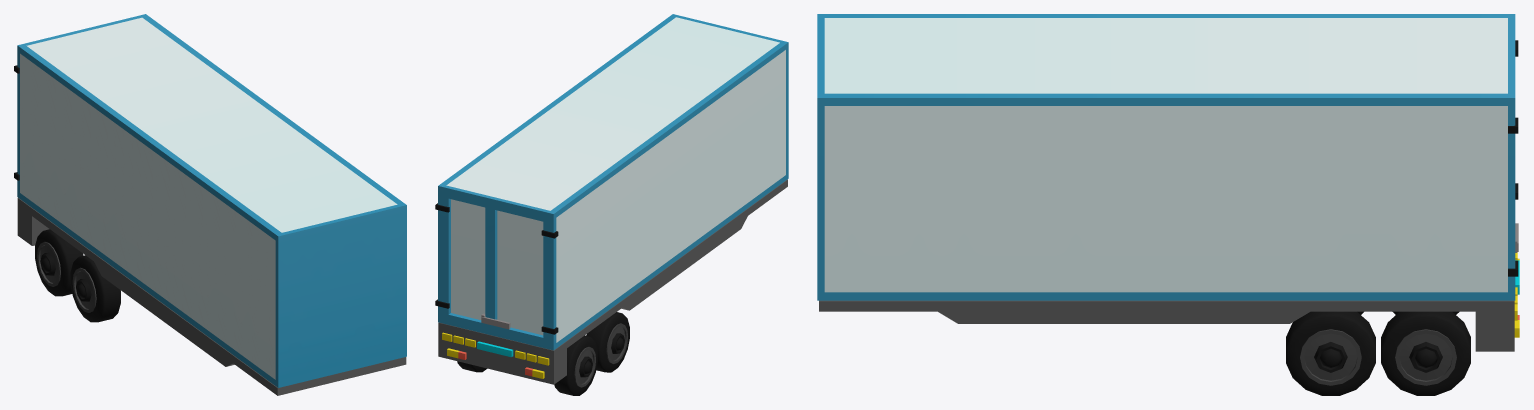
The model's file is Trailer_1_lvl2.fbx.
3 views of the same model, side by side, from view 1: azimuth 30°, elevation 25°; view 2: azimuth 150°, elevation 25°; view 3: azimuth 270°, elevation 25° (orthographic). The views are drawn at different scales.
Parts seen in each view (by area): view 1: Object047, R3_063, R3_061; view 2: Object047, R3_063, R3_061; view 3: Object047, R3_060, R3_062.
Boxes of the visible parts, x1,y1,x2,y2 form: Object047: (14, 14, 406, 395); R3_063: (70, 255, 120, 322); R3_061: (35, 229, 83, 296); Object047: (435, 14, 788, 384); R3_063: (586, 312, 629, 372); R3_061: (554, 335, 597, 395); Object047: (817, 14, 1519, 351); R3_060: (1381, 311, 1470, 395); R3_062: (1286, 311, 1375, 395).
Bounding box in the file's own units: 2935 × 4457 × 9443.
